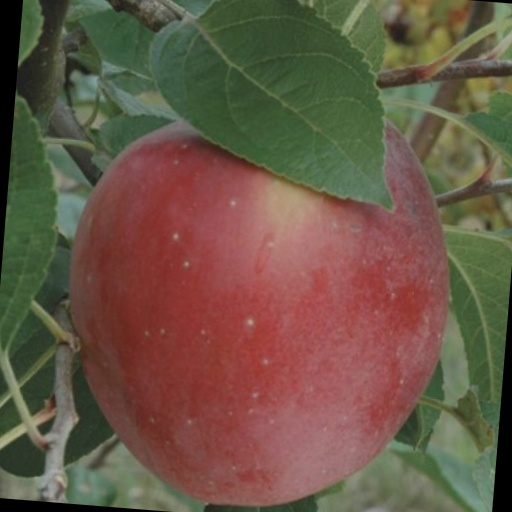fruit: (71, 123, 448, 505)
